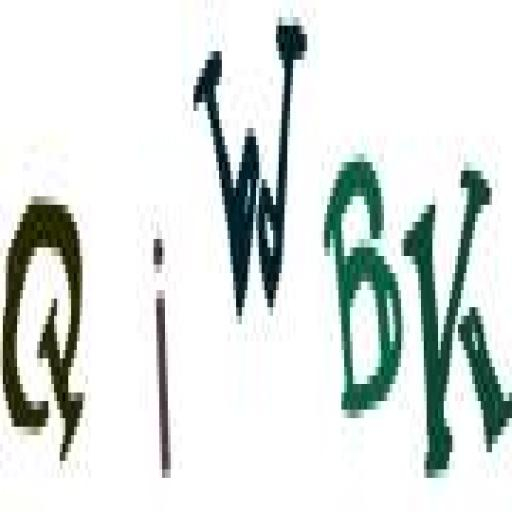B: (320, 139, 405, 429)
K: (404, 162, 512, 478)
Q: (0, 166, 94, 472)
W: (192, 3, 309, 350)
i: (137, 207, 182, 486)
